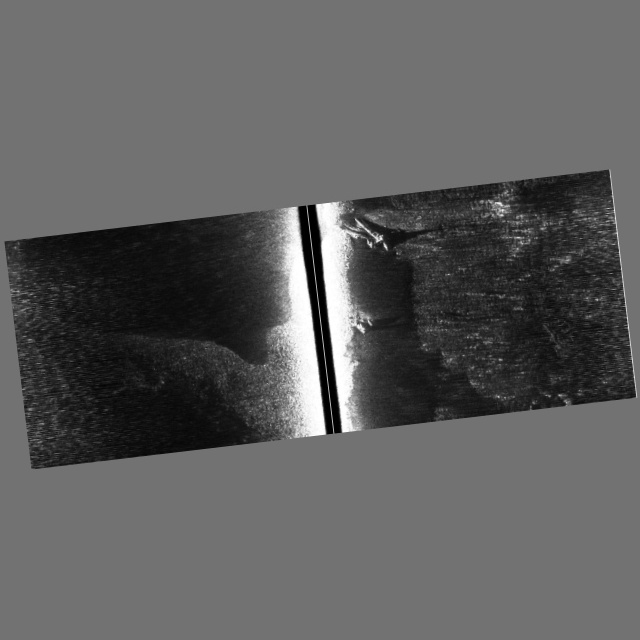Shipwreck: (337, 212, 411, 336)
